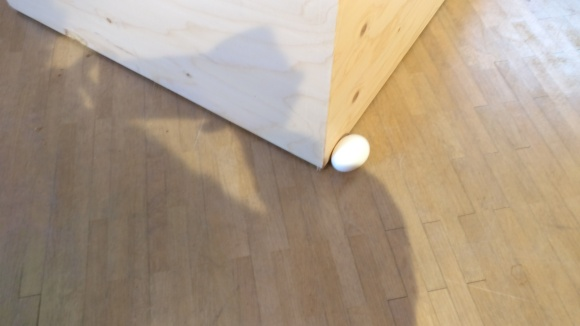egg: (330, 135, 371, 174)
